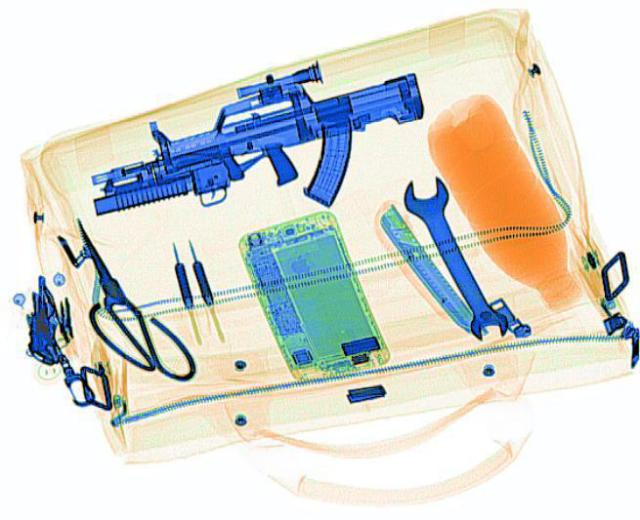Gun: (86, 59, 427, 214)
Knife: (68, 214, 198, 382)
Wrench: (402, 172, 508, 344)
